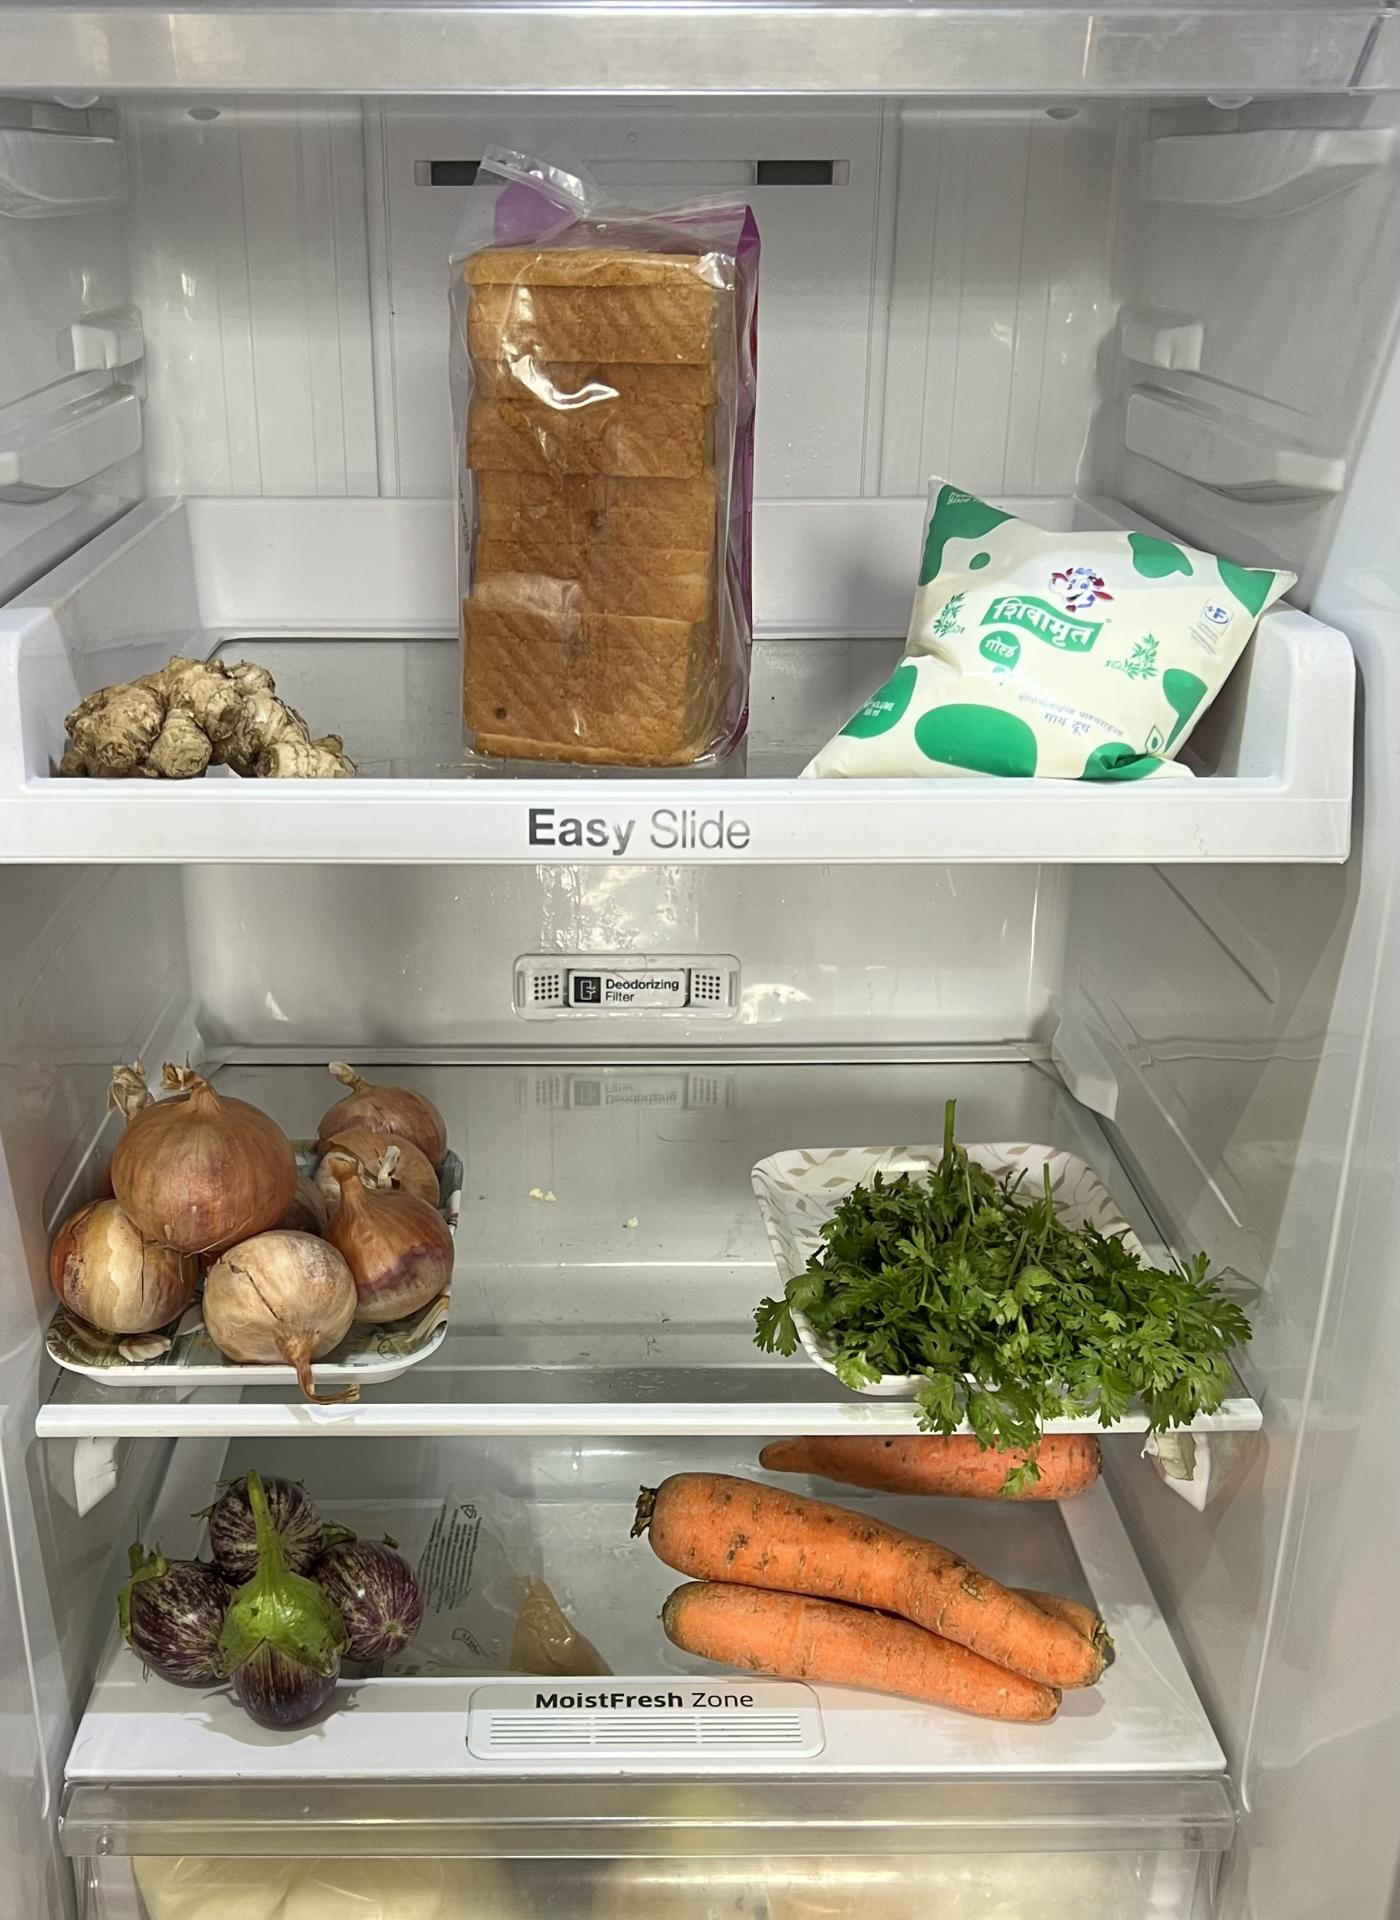bread: (432, 168, 768, 768)
carrots: (635, 1436, 1115, 1726)
coriander: (751, 1122, 1252, 1430)
ginger: (43, 645, 358, 786)
milk: (808, 477, 1270, 792)
onion: (46, 1046, 464, 1368)
